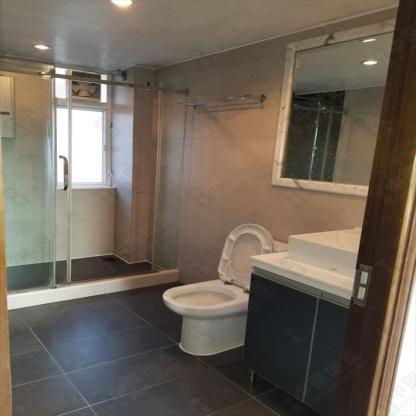Exhaust Fan: (68, 71, 100, 99)
Toilet: (162, 222, 278, 357)
Toilet Sink: (287, 225, 362, 277)
Water Cubicle: (1, 58, 55, 294)
Water Heater: (0, 75, 16, 140)
